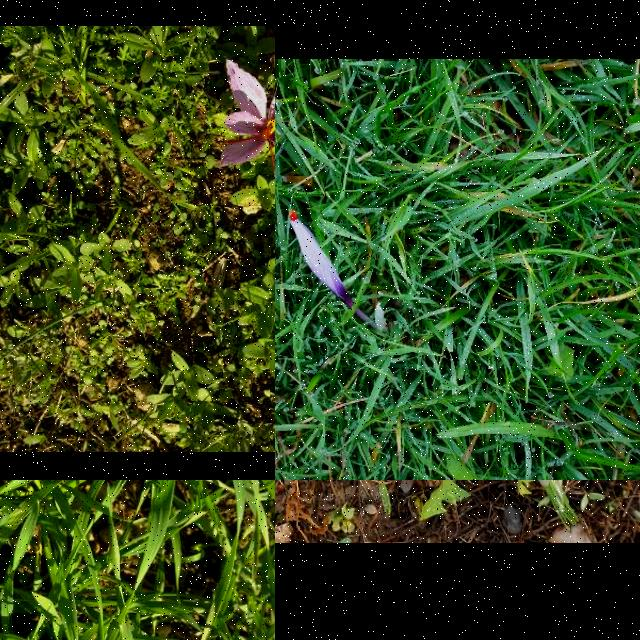flower: (288, 210, 352, 306), (218, 59, 275, 165)
